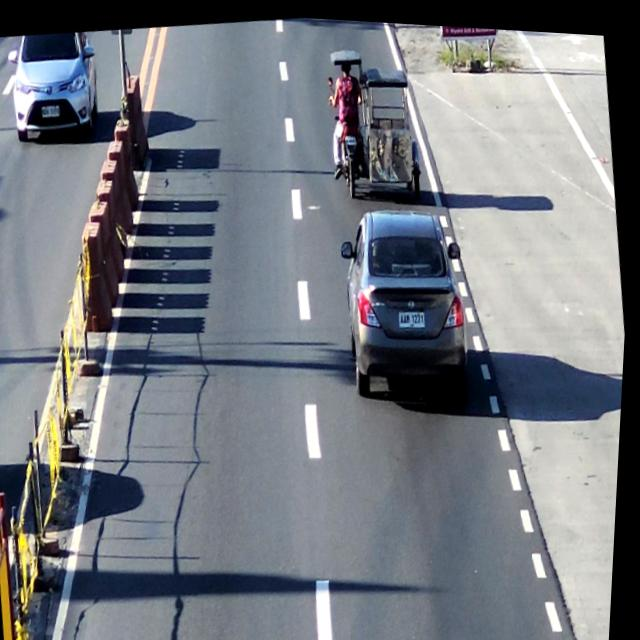Car: (331, 196, 486, 405)
License-Plate: (397, 297, 431, 333), (41, 100, 62, 119)
Tricycle: (320, 38, 432, 196)
